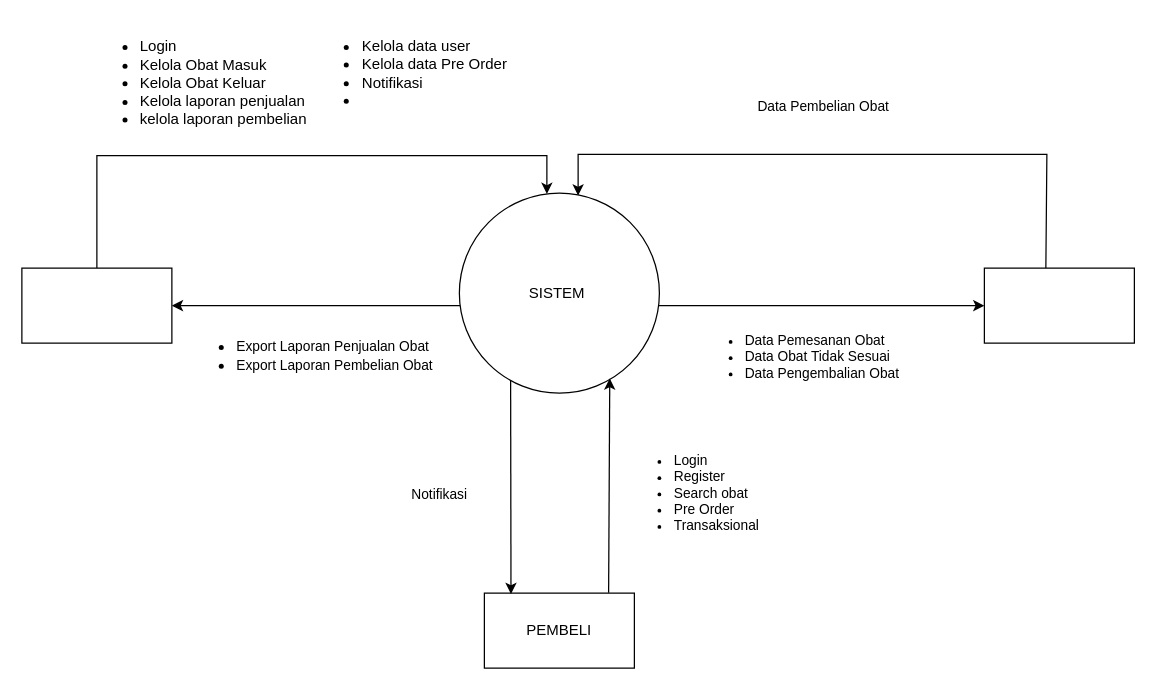
Image size: 1156x690. Some labels were removed from this diagram. The centre of each missing label's shape, as x and y in pixels:
"ADMIN" belongs at (96,305).
"SUPLIER" belongs at (1058,305).
